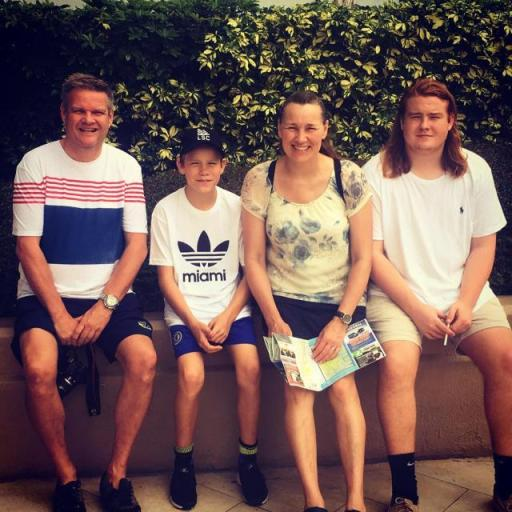Adidas: (174, 227, 232, 284)
